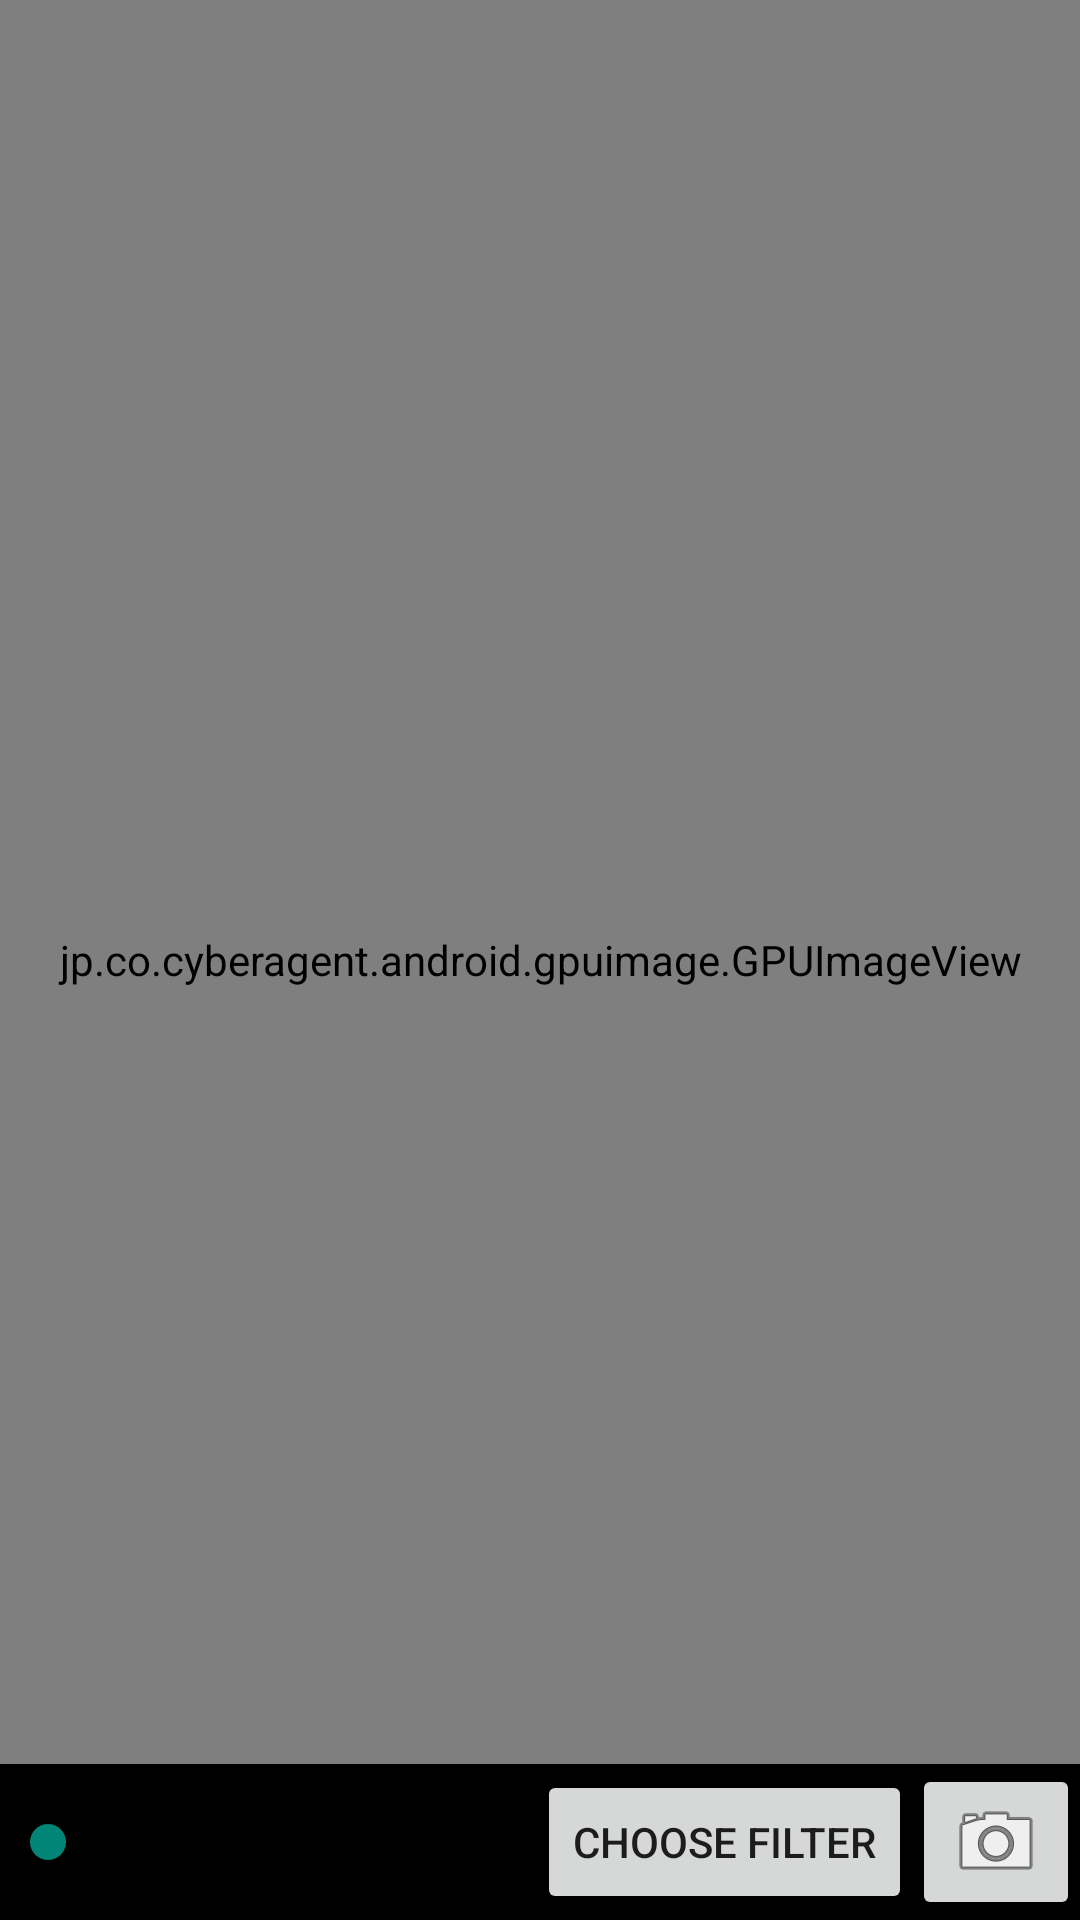

Locate icon controls on the screen. Image size 1080px x 1920px, boxes as [left=x1, top=y1, right=x2, bottom=y2].
camera: [left=924, top=1782, right=1068, bottom=1902]
